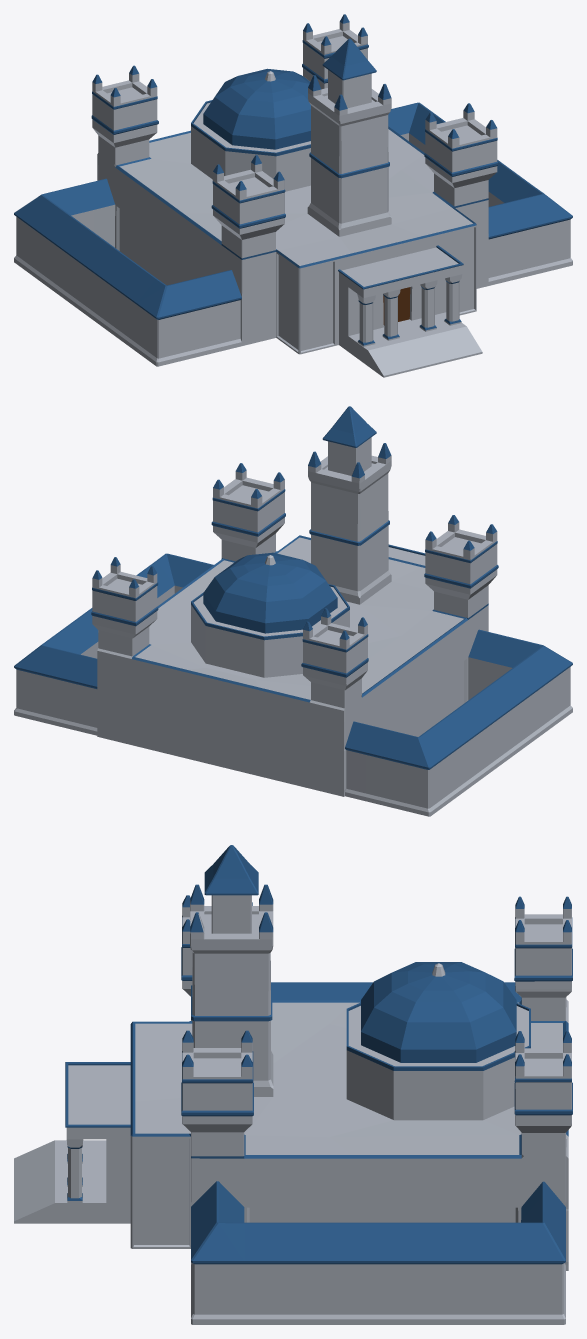
The model's file is magic academy.fbx.
3 renders of one model, top to bottom at view 1: azimuth 30°, elevation 25°; view 2: azimuth 150°, elevation 25°; view 3: azimuth 270°, elevation 25°, orthographic. The views are drawn at different scales.
Parts seen in each view (by area): view 1: Cube; view 2: Cube; view 3: Cube.
Boxes of the visible parts, <box> form: Cube: <box>14,14,572,377</box>; Cube: <box>14,406,572,816</box>; Cube: <box>14,845,572,1324</box>.
Bounding box in the file's own units: 1258 × 766 × 1120.
